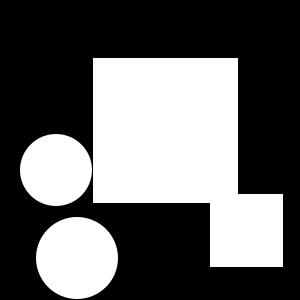circle: (93, 58, 238, 203), (104, 68, 230, 194), (210, 194, 283, 267)
rectangle: (36, 217, 118, 299), (20, 134, 92, 206)
